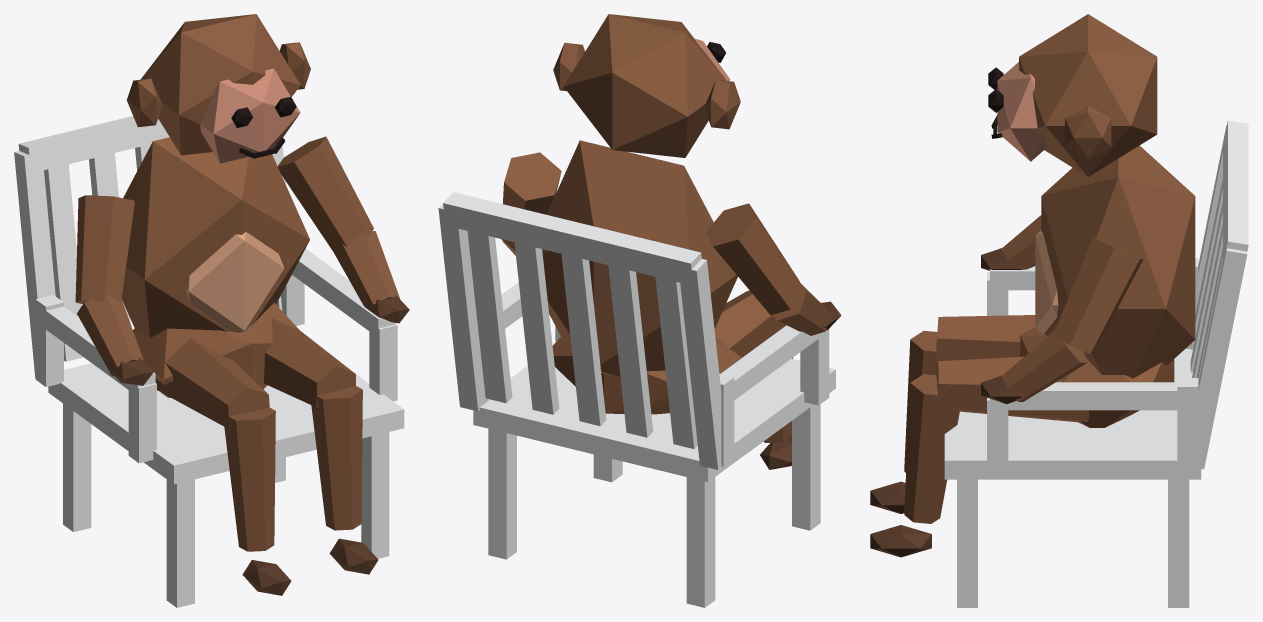
The model's file is macaco-low-poly.glb.
3 renders of one model, left to right at view 1: azimuth 30°, elevation 25°; view 2: azimuth 150°, elevation 25°; view 3: azimuth 270°, elevation 25°, orthographic. The views are drawn at different scales.
Parts seen in each view (by area): view 1: MacacoNaCadeira; view 2: MacacoNaCadeira; view 3: MacacoNaCadeira.
Boxes of the visible parts, bbox=[...] form: MacacoNaCadeira: bbox=[14, 14, 409, 607]; MacacoNaCadeira: bbox=[438, 14, 841, 607]; MacacoNaCadeira: bbox=[870, 14, 1248, 607].
Bounding box in the file's own units: 1.14 × 1.91 × 1.25.
